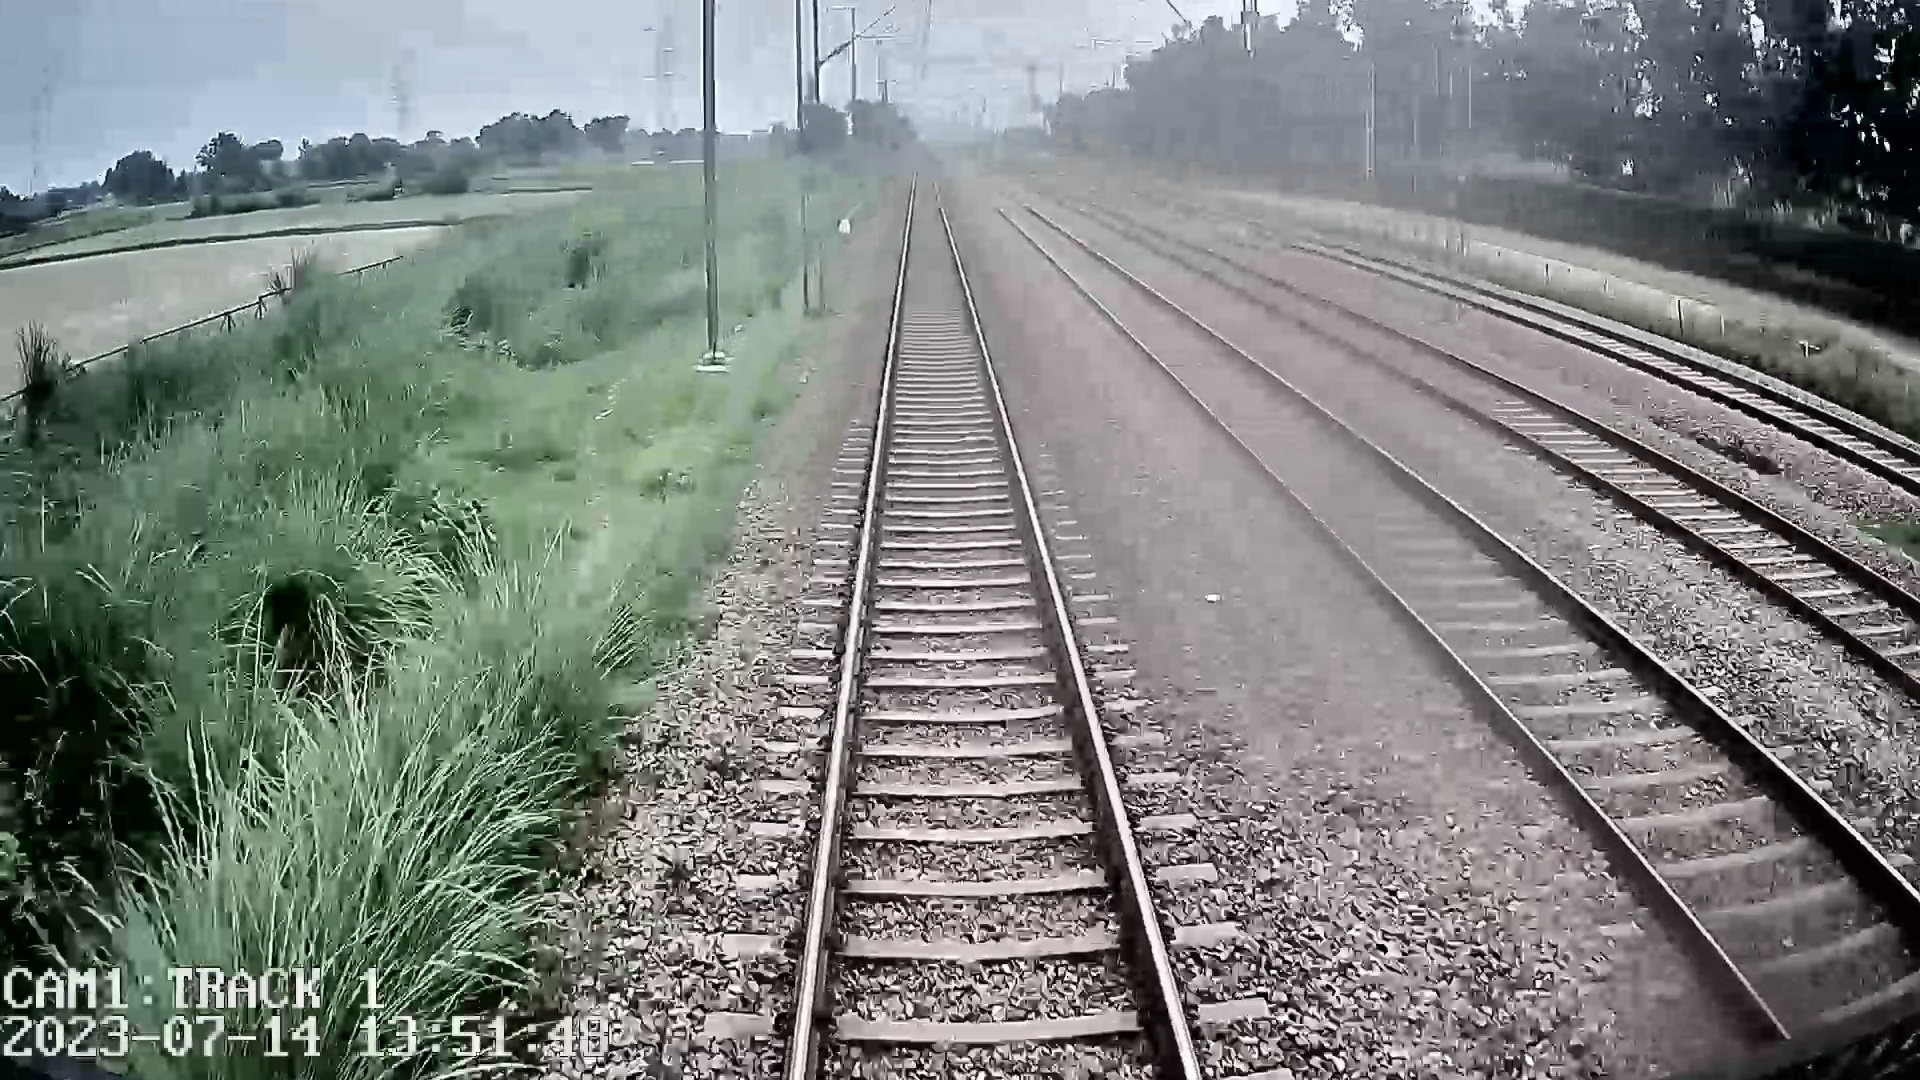track1: (800, 181, 1193, 1069)
track2: (993, 204, 1919, 1025)
track3: (1116, 220, 1919, 680)
track4: (1284, 239, 1919, 480)
